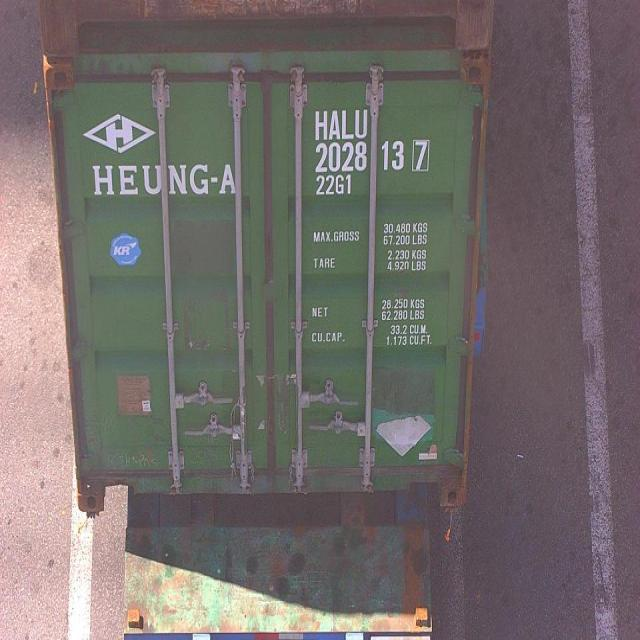ISO: (316, 177, 352, 197)
container_number: (316, 109, 434, 169)
